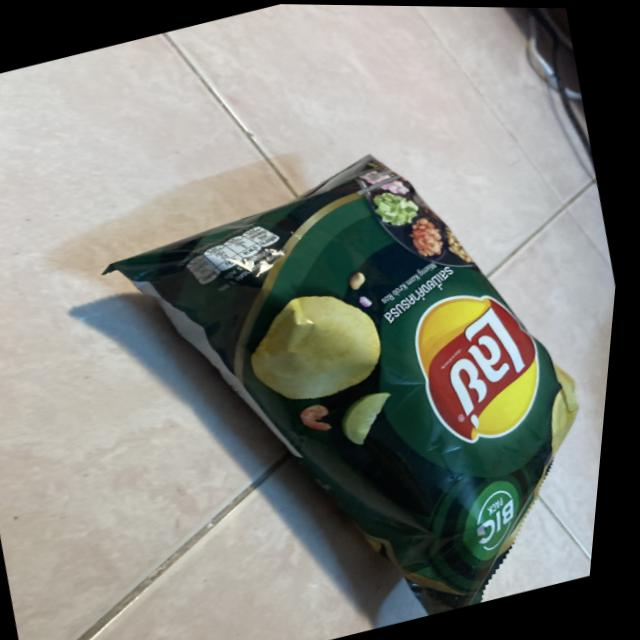Laygreen: (41, 105, 633, 640)
